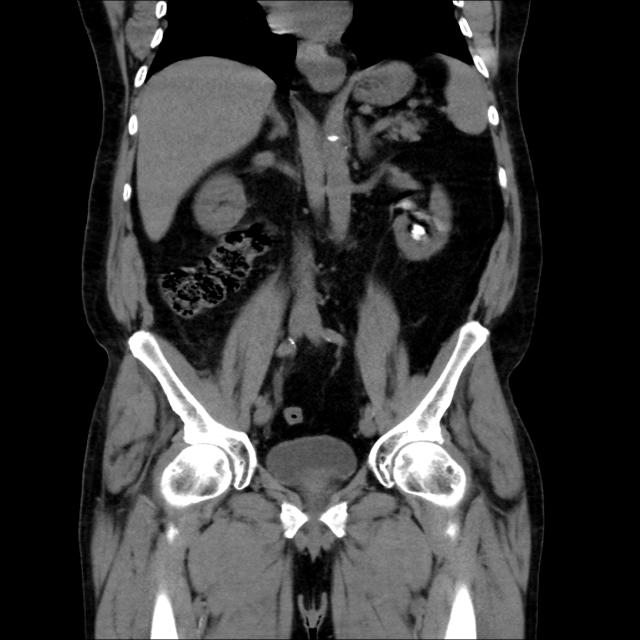kidneystone: (410, 222, 427, 241)
